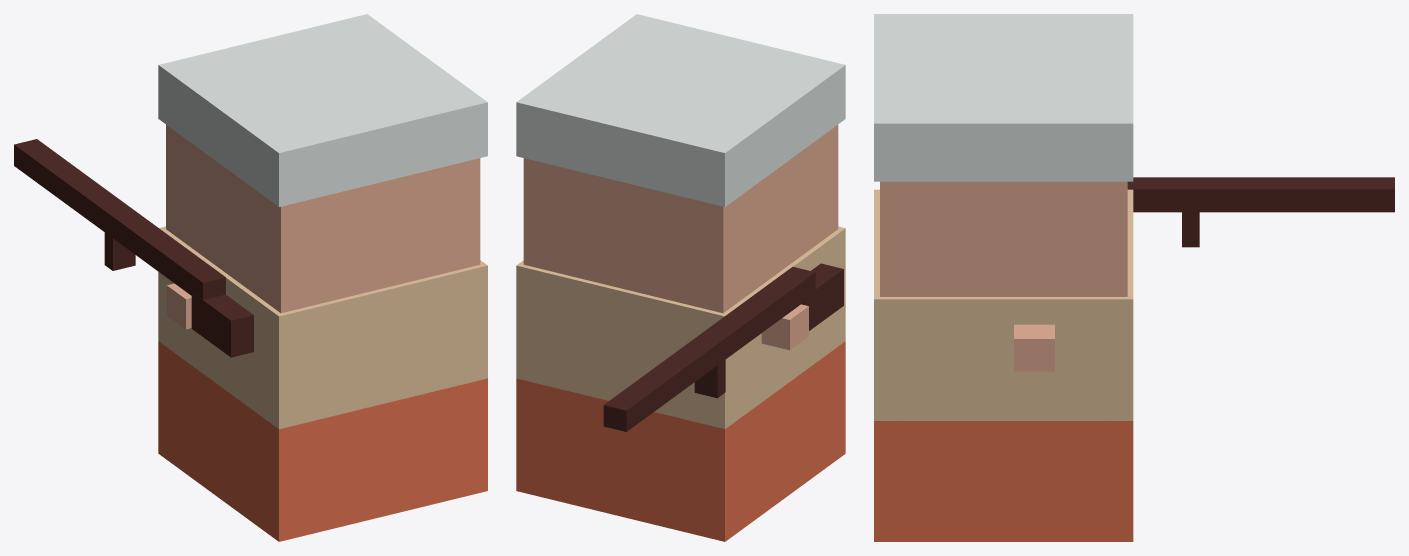
Rendered from doonRifleman.gltf.
The picture shows the model from 3 angles, left to right: view 1: azimuth 30°, elevation 25°; view 2: azimuth 150°, elevation 25°; view 3: azimuth 270°, elevation 25°; orthographic projection. The views are drawn at different scales.
Parts seen in each view (by area): view 1: Cube.003, Cube.001, Cube.002, Cube, Cube.004, Cube.005, Cube.007, Cube.006; view 2: Cube.003, Cube.001, Cube.002, Cube, Cube.004, Cube.005, Cube.007, Cube.006; view 3: Cube.003, Cube, Cube.001, Cube.002, Cube.004, Cube.008, Cube.006.
Boxes of the visible parts, <box> form: Cube.003: <box>158,14,487,206</box>; Cube.001: <box>158,341,487,541</box>; Cube.002: <box>166,124,480,313</box>; Cube: <box>158,226,487,429</box>; Cube.004: <box>14,139,225,299</box>; Cube.005: <box>191,292,253,357</box>; Cube.007: <box>167,283,191,329</box>; Cube.006: <box>104,228,135,270</box>; Cube.003: <box>516,14,845,206</box>; Cube.001: <box>516,341,845,541</box>; Cube.002: <box>523,124,838,313</box>; Cube: <box>516,226,845,428</box>; Cube.004: <box>603,266,815,431</box>; Cube.005: <box>801,263,843,330</box>; Cube.007: <box>761,304,808,350</box>; Cube.006: <box>694,355,725,398</box>; Cube.003: <box>874,14,1133,181</box>; Cube: <box>874,189,1133,420</box>; Cube.001: <box>874,421,1133,541</box>; Cube.002: <box>880,181,1127,296</box>; Cube.004: <box>1127,177,1394,212</box>; Cube.008: <box>1014,324,1054,371</box>; Cube.006: <box>1182,212,1199,247</box>.
Bounding box in the file's own units: 1.16 × 1.63 × 1.84.
